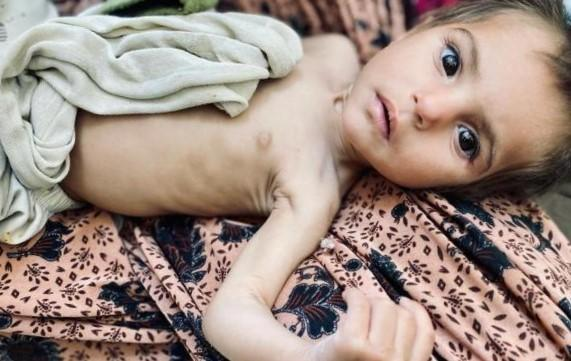Stunting: (370, 4, 571, 210)
